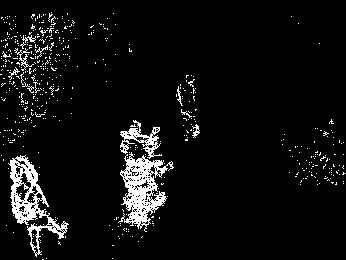person: (4, 152, 68, 259), (175, 72, 204, 140)
